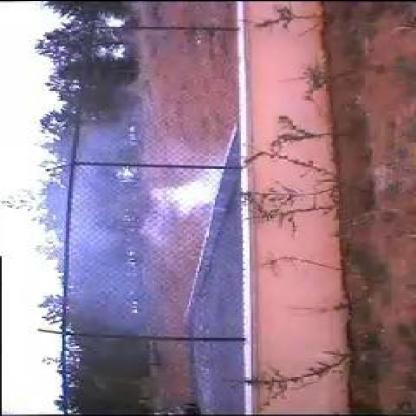-: (82, 148, 226, 282)
